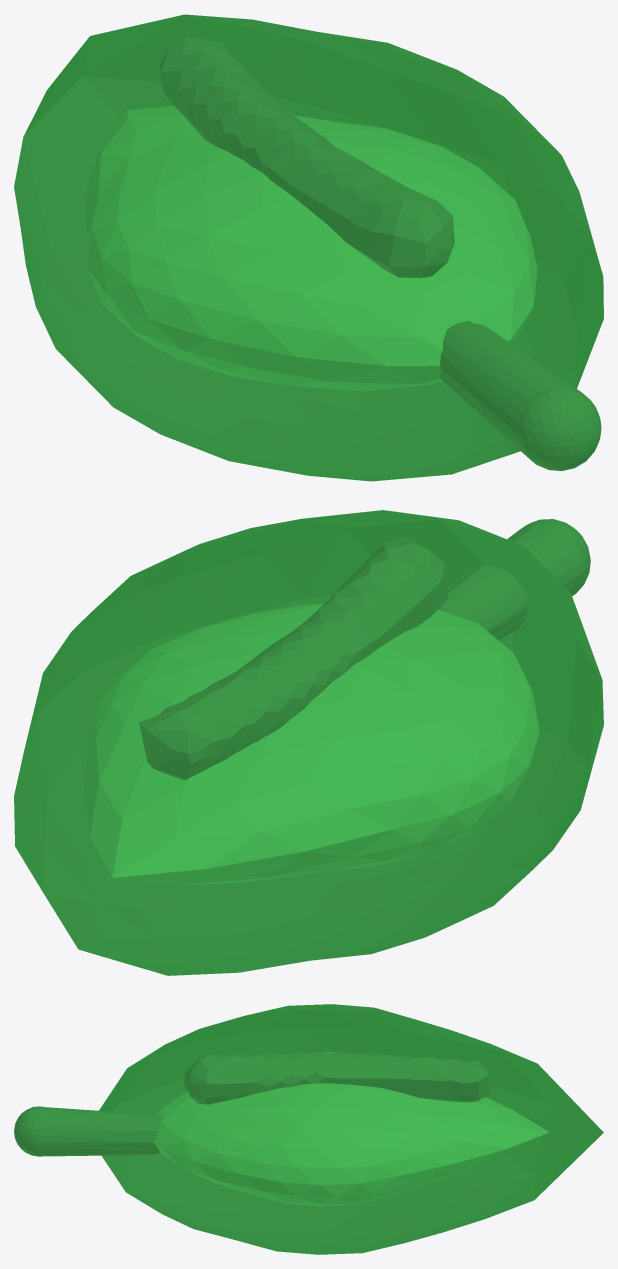
The model's file is leaf.glb.
The picture shows the model from 3 angles, top to bottom: view 1: azimuth 30°, elevation 25°; view 2: azimuth 150°, elevation 25°; view 3: azimuth 270°, elevation 25°; orthographic projection. The views are drawn at different scales.
Parts seen in each view (by area): view 1: Icosphere, Icosphere.002, Icosphere.001; view 2: Icosphere, Icosphere.002, Icosphere.001; view 3: Icosphere, Icosphere.002, Icosphere.001.
Part boxes in pixels (x1,y1,x2,y2): Icosphere: (14,14,603,481); Icosphere.002: (160,35,454,277); Icosphere.001: (440,321,601,471); Icosphere: (14,510,603,975); Icosphere.002: (139,536,448,780); Icosphere.001: (438,519,590,639); Icosphere: (99,1004,603,1254); Icosphere.002: (184,1052,489,1104); Icosphere.001: (14,1106,163,1156).
Size of the model in its own units: 1.51 by 1.05 by 2.72.
